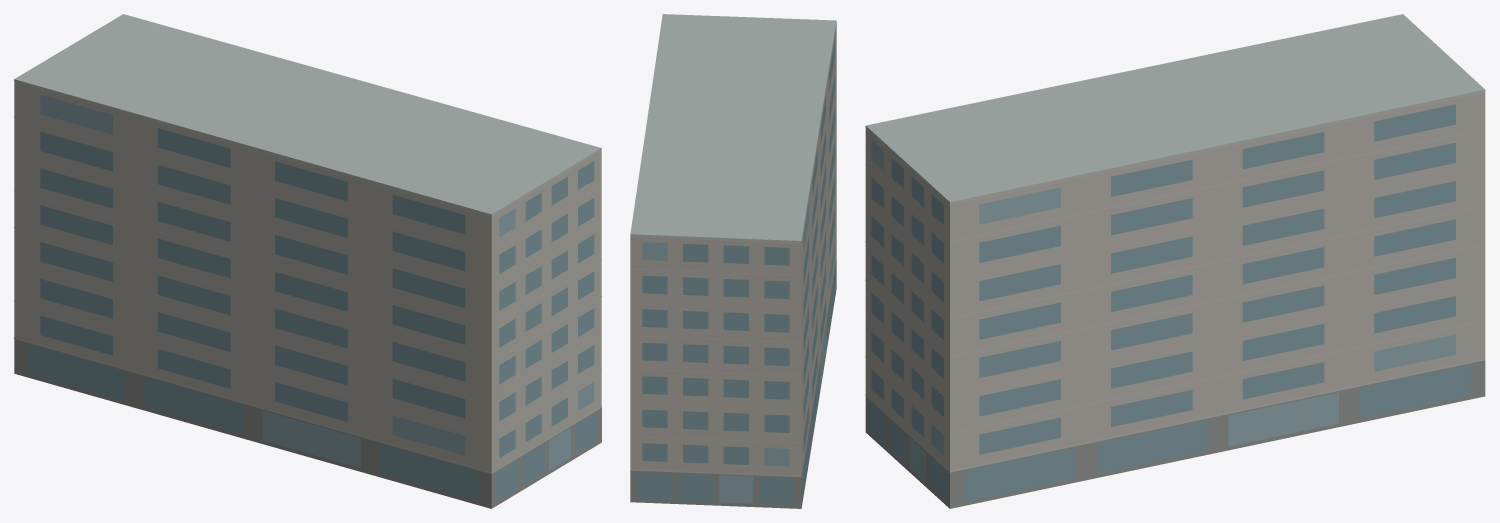
The model's file is survey-upis-32748064.glb.
3 renders of one model, left to right at view 1: azimuth 30°, elevation 25°; view 2: azimuth 150°, elevation 25°; view 3: azimuth 270°, elevation 25°, orthographic. The views are drawn at different scales.
Parts seen in each view (by area): view 1: survey-upis-32748064.tmp; view 2: survey-upis-32748064.tmp; view 3: survey-upis-32748064.tmp.
Part boxes in pixels (x1,y1,x2,y2): survey-upis-32748064.tmp: (14,14,601,508); survey-upis-32748064.tmp: (630,14,836,508); survey-upis-32748064.tmp: (865,14,1485,508).
Bounding box in the file's own units: 32.11 × 24.4 × 44.69.
